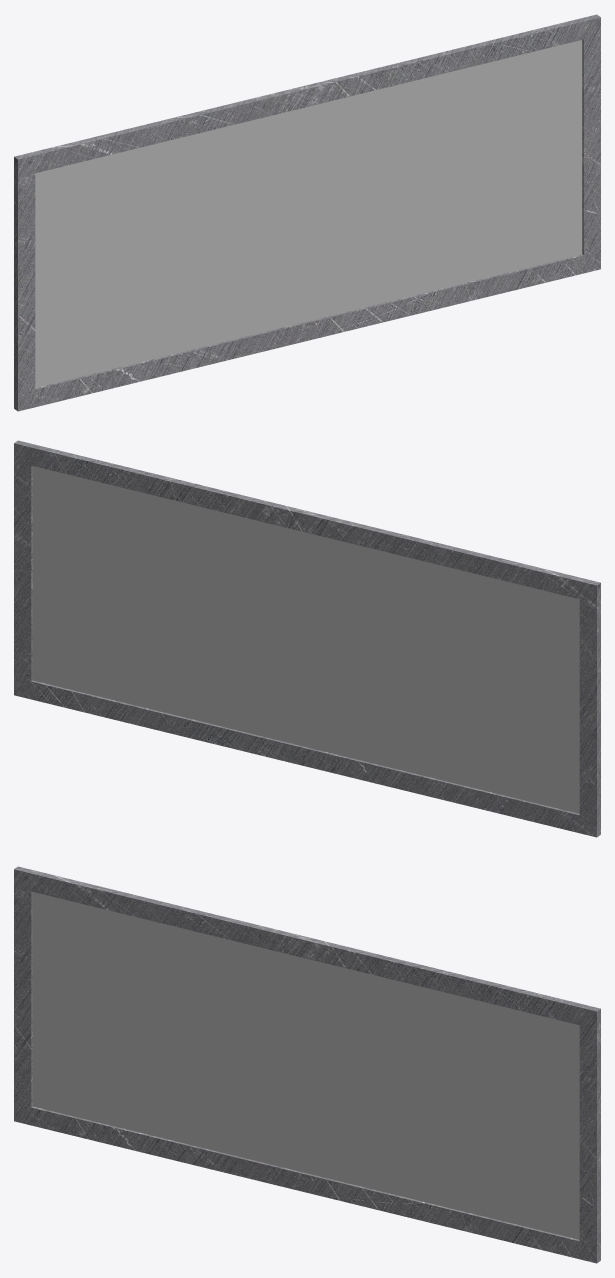
Rendered from simple meddium window steel .fbx.
3 views of the same model, one above another, from view 1: azimuth 30°, elevation 25°; view 2: azimuth 150°, elevation 25°; view 3: azimuth 330°, elevation 25° (orthographic).
Visible parts, largest first — view 1: glass, frame; view 2: glass, frame; view 3: glass, frame.
Part boxes in pixels (x1,y1,x2,y2): glass: (35,40,582,387); frame: (14,14,600,411); glass: (32,466,579,813); frame: (14,440,600,837); glass: (32,892,579,1239); frame: (14,866,600,1263).
Size of the model in its own units: 339 by 140 by 4.
